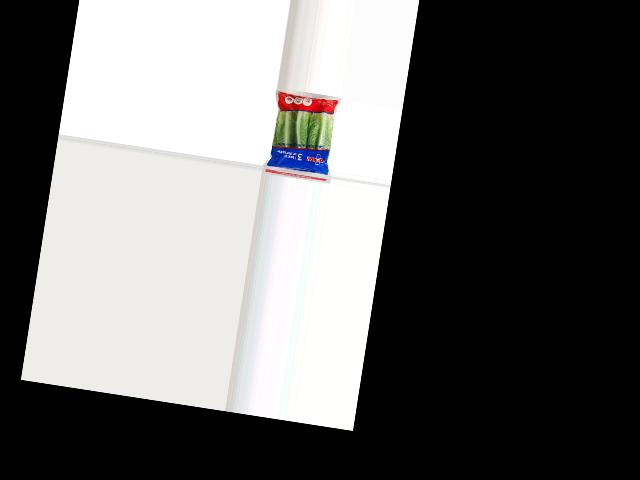lettuce: (265, 88, 343, 179)
